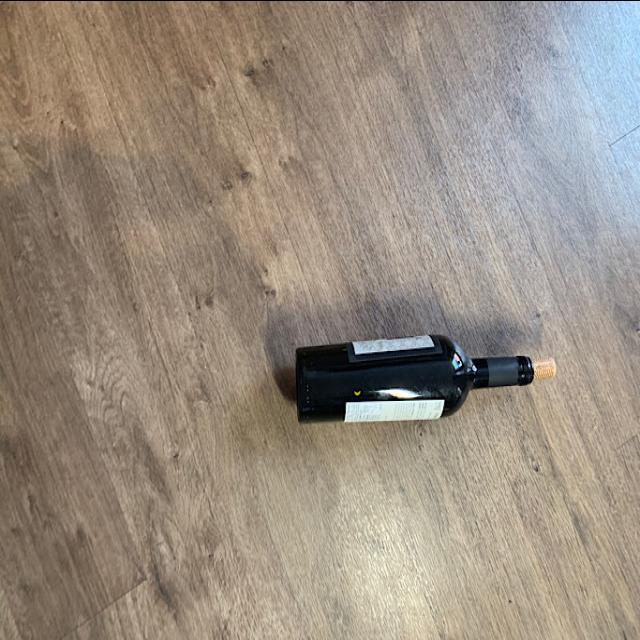litter: (293, 333, 536, 422)
